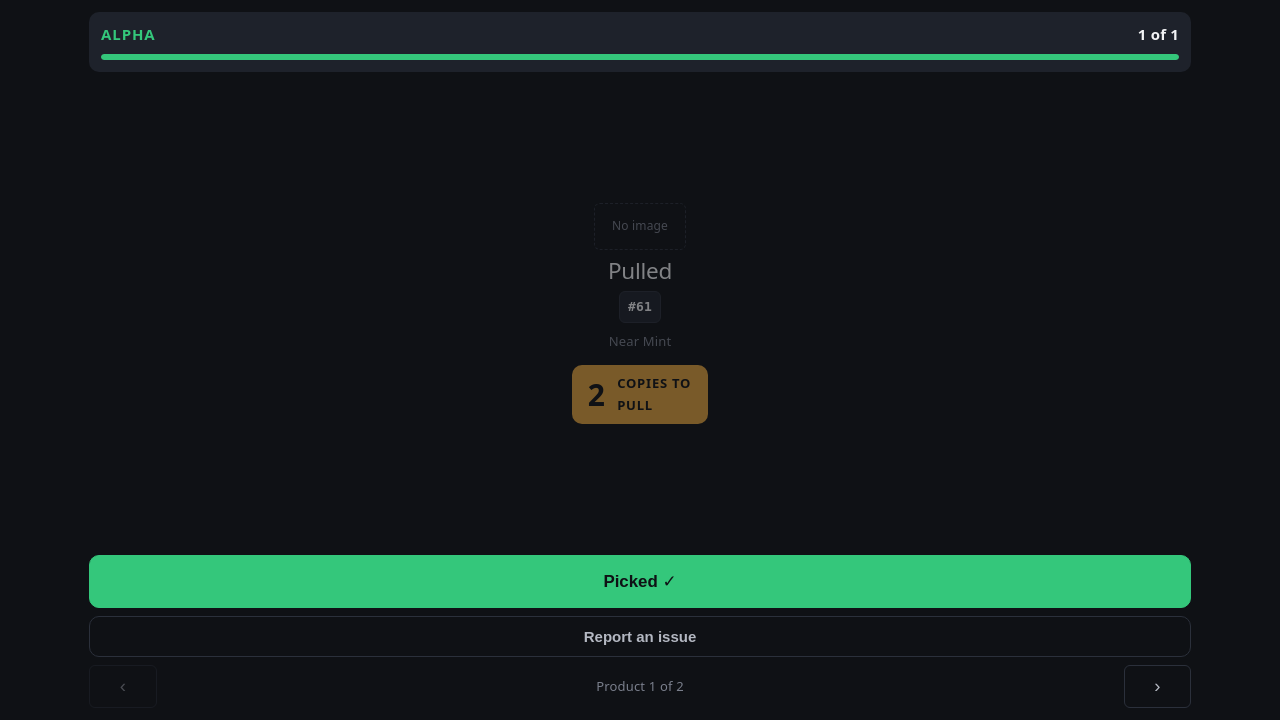
Test case: FocusedPickView — the final review › opens past the last card, listing every product
Click the button named "Next card" at (1157, 686), box 1124,665 -> 1191,708
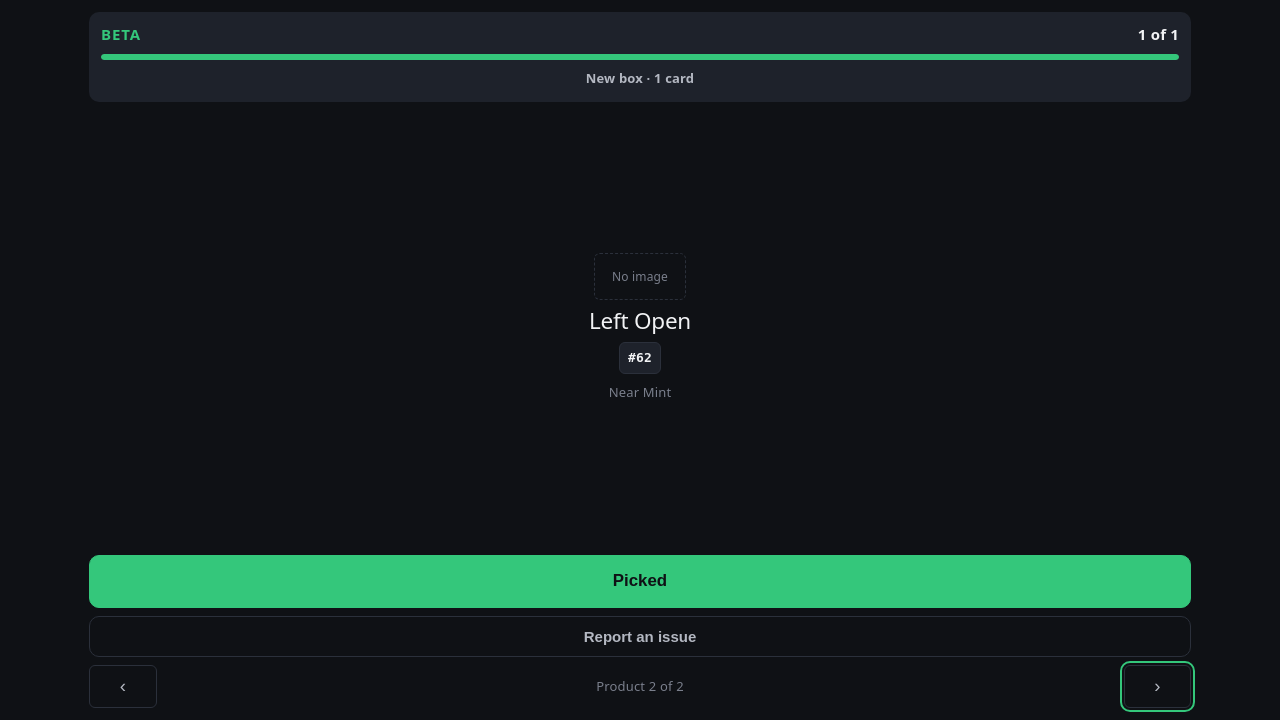
Click the button named "Next card" at (1157, 686), box 1124,665 -> 1191,708
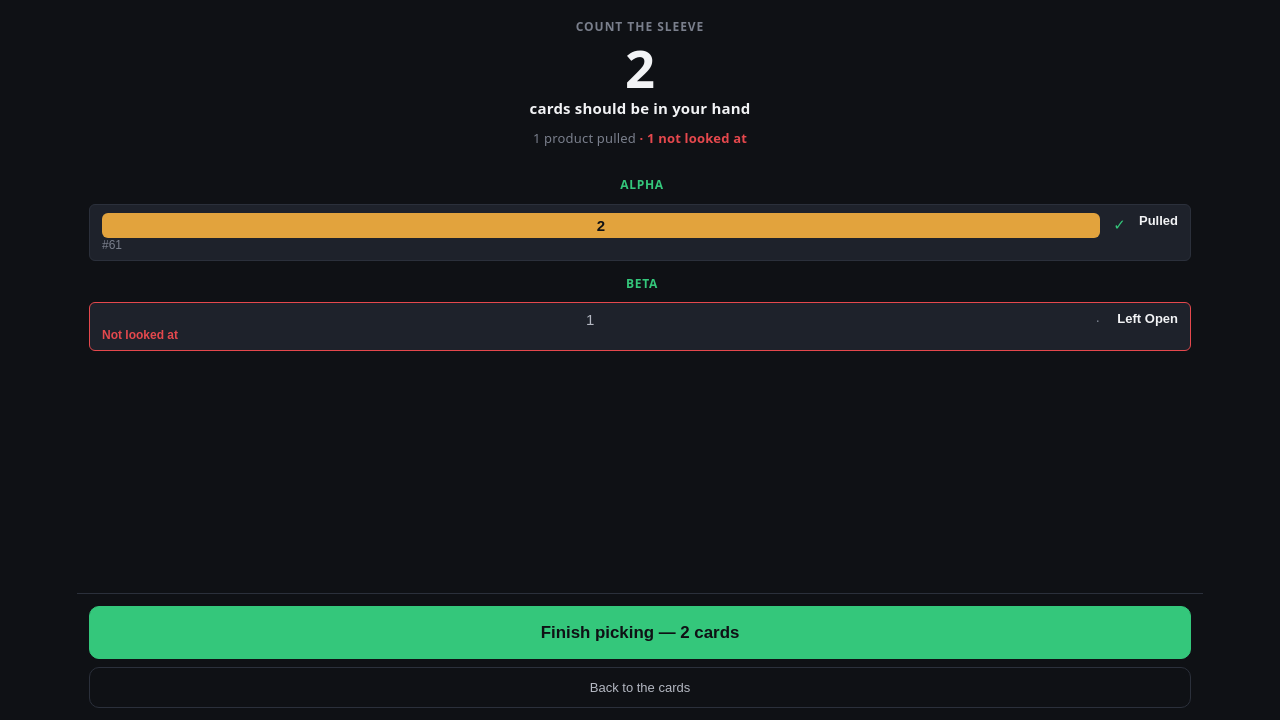
Check: the text "Count the sleeve" is shown, box 576,18 -> 704,35
Check: the button "Pulled #61 2 ✓" is shown, box 89,204 -> 1191,260
Check: the button "Left Open Not looked at 1 ·" is shown, box 89,302 -> 1191,351
